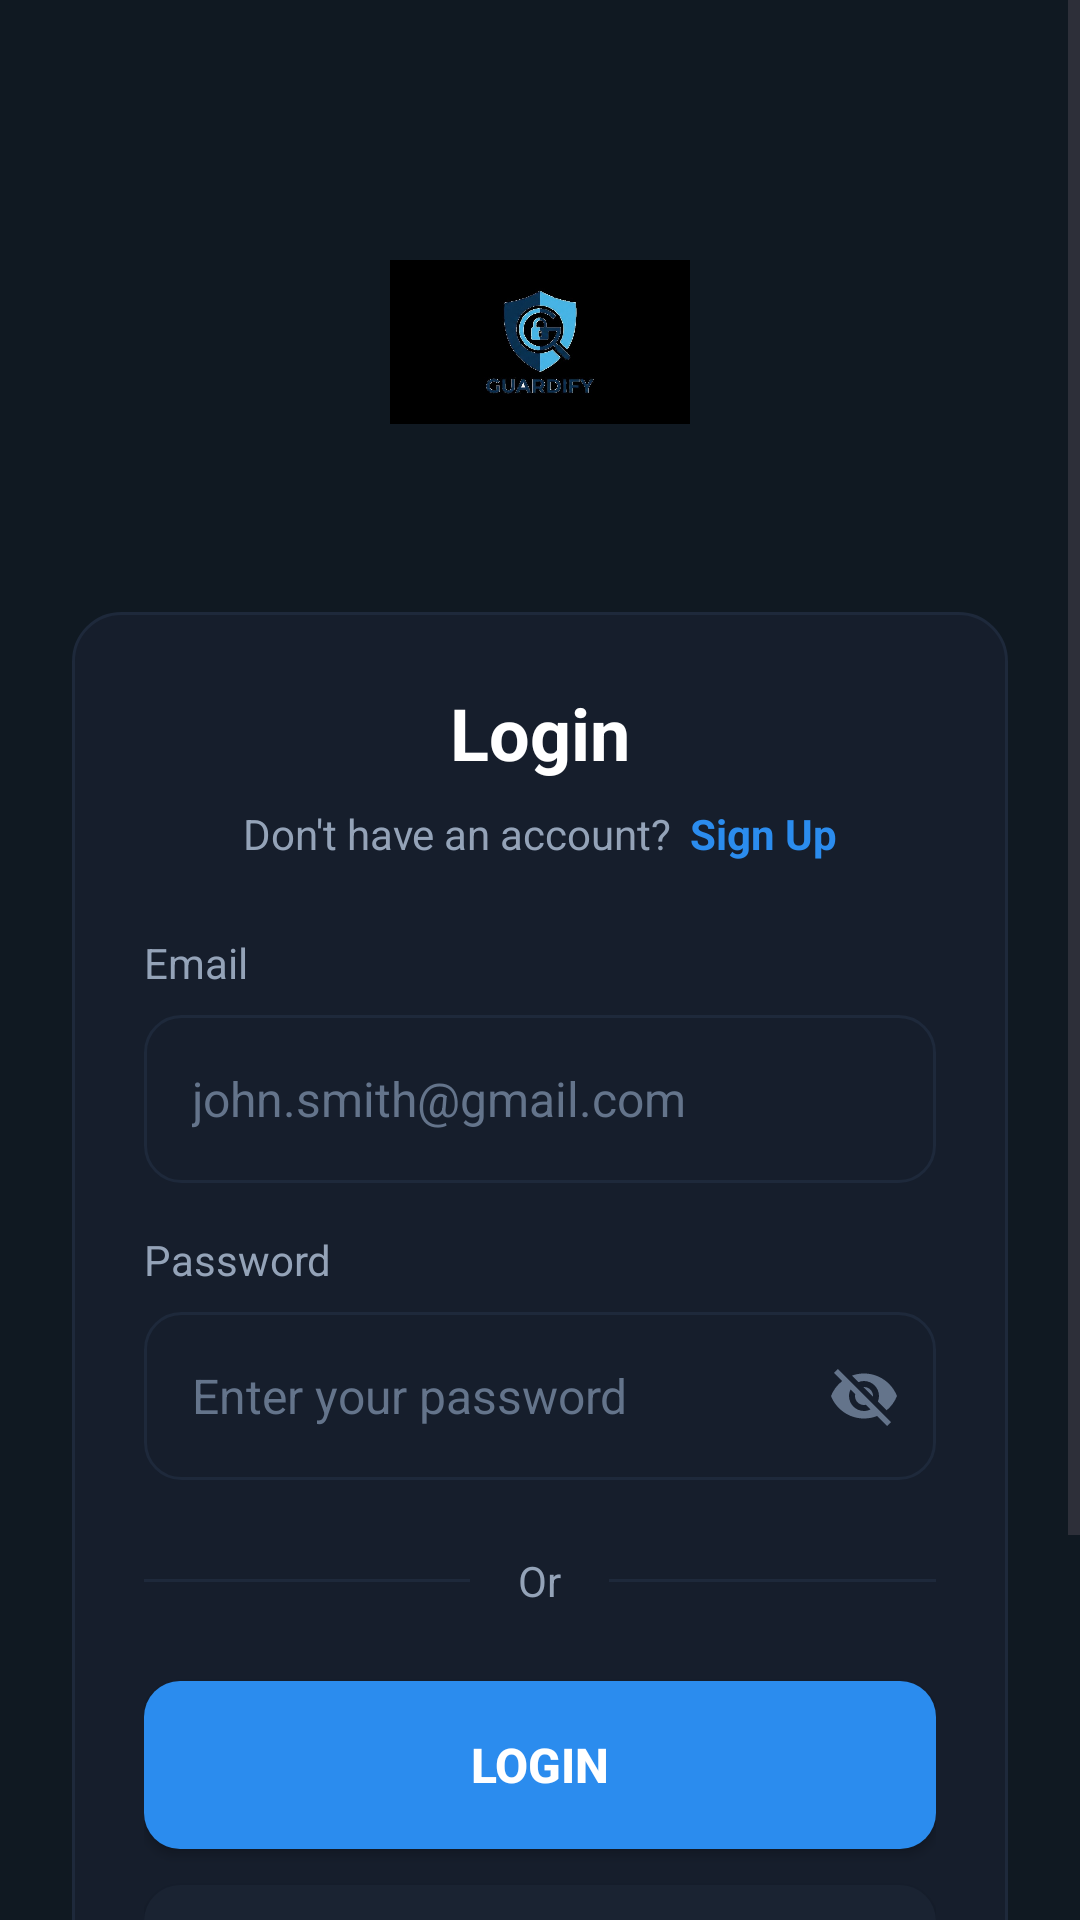

Screen size 1080×1920. Icon name, then its center in pixels as [x,y]:
Toggle password: [864,1397]
